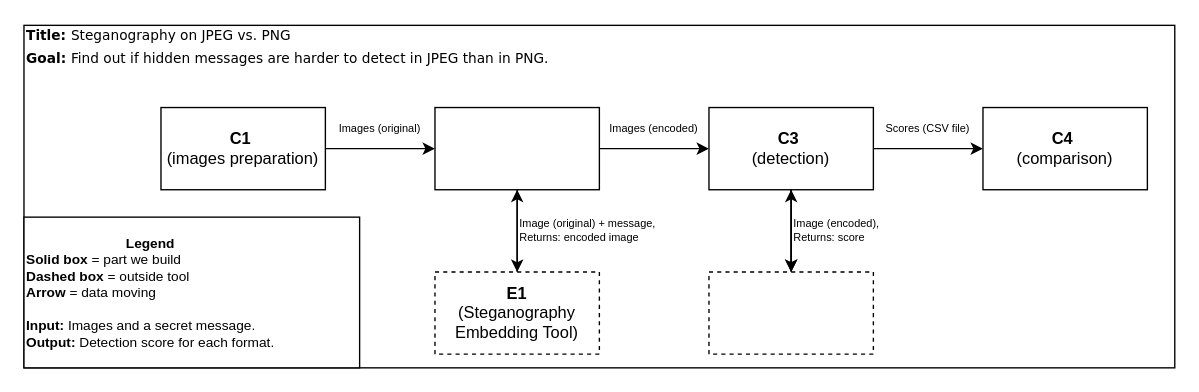
This 1199x392 diagram has some shape labels left out. Here are the shapes that lost their labels. From the top down, the box of each, then its label:
(434, 106, 599, 190): C2 (embedding data)
(708, 271, 873, 354): E2 (Steganography Detection Tool)
